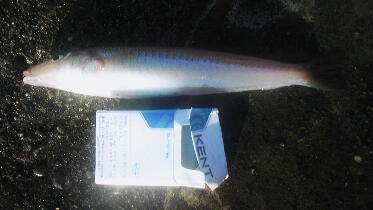kiss: (21, 42, 331, 105)
